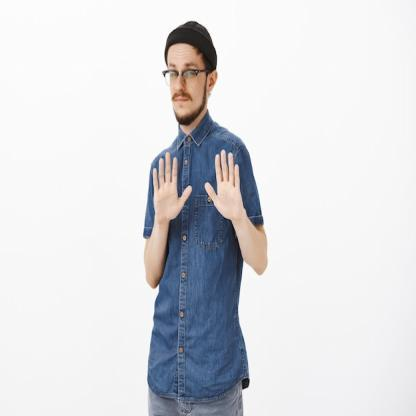stop: (201, 146, 245, 224), (150, 147, 193, 224)
